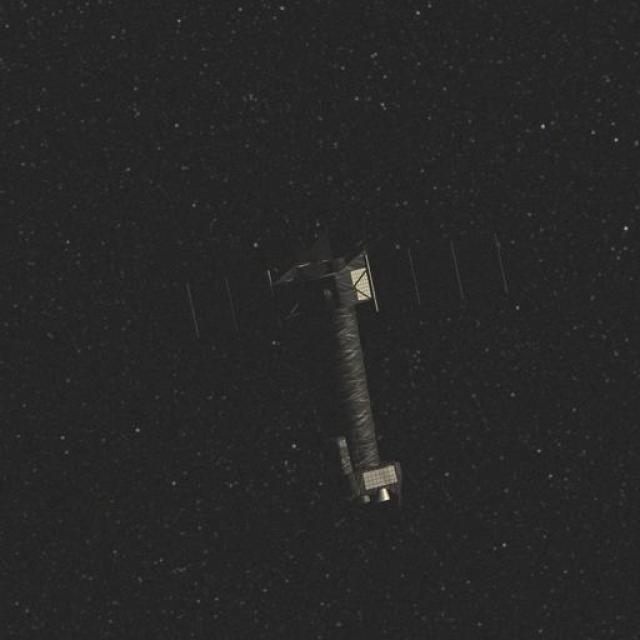xmm_newton: (224, 222, 480, 540)
